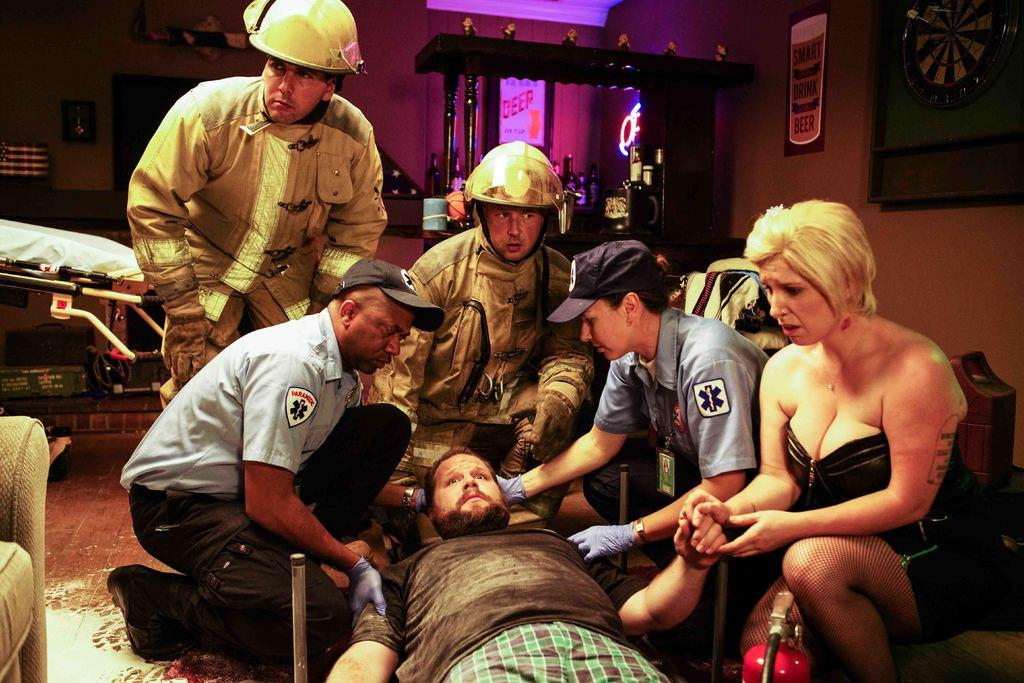Hat: (542, 236, 666, 322), (334, 256, 442, 334)
